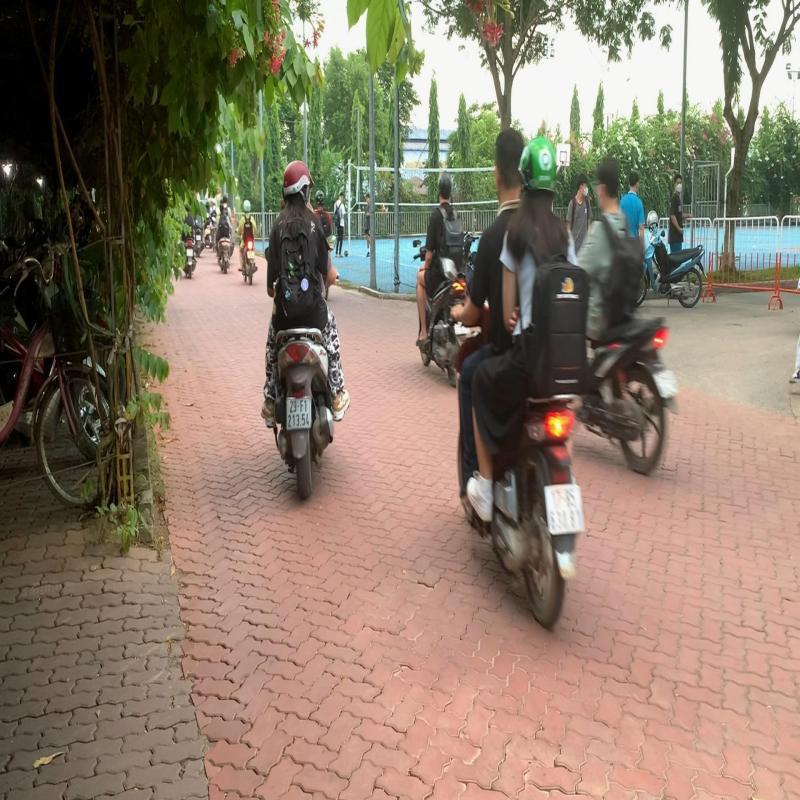nohelmet: (490, 125, 528, 196)
